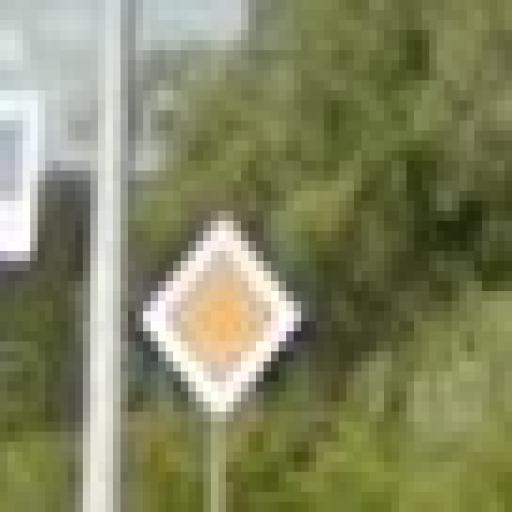traffic_sign: (137, 212, 302, 423)
